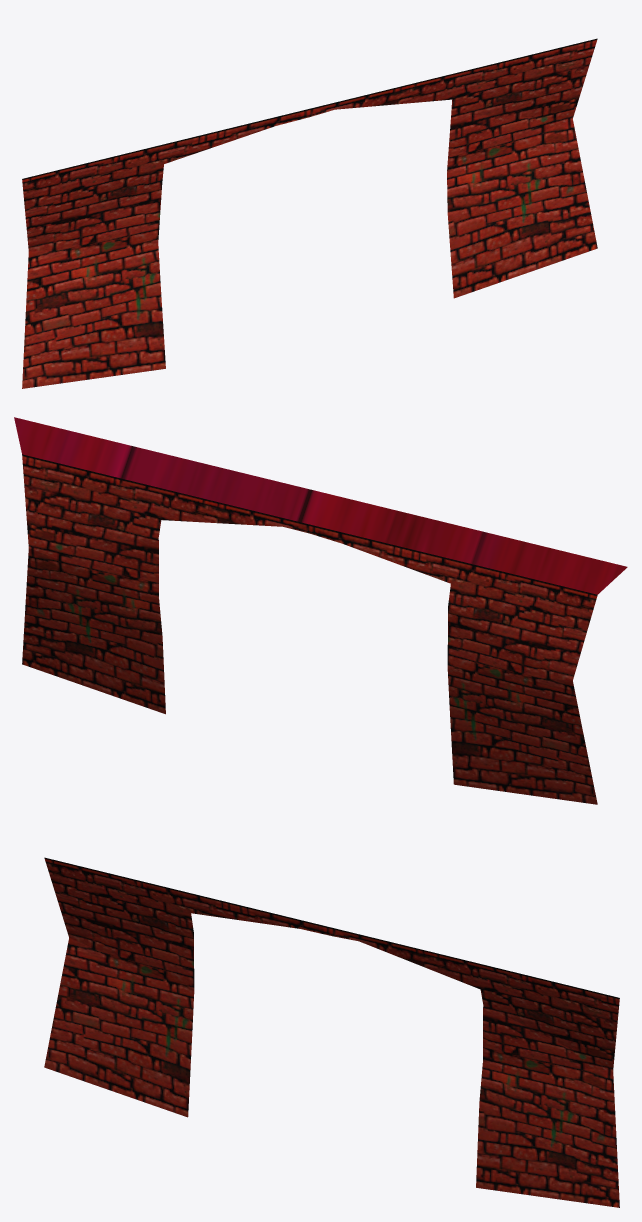
File: W_A1_GroßesTor [Ziegel]_582.glb
3 views of the same model, one above another, from view 1: azimuth 30°, elevation 25°; view 2: azimuth 150°, elevation 25°; view 3: azimuth 330°, elevation 25° (orthographic).
Parts seen in each view (by area): view 1: polySurfaceShape787; view 2: polySurfaceShape787, polySurfaceShape1065; view 3: polySurfaceShape787.
Boxes of the visible parts, <box> form: polySurfaceShape787: <box>22,38,597,388</box>; polySurfaceShape787: <box>22,454,597,804</box>; polySurfaceShape1065: <box>14,417,627,594</box>; polySurfaceShape787: <box>44,857,619,1207</box>.
Bounding box in the file's own units: 1.07 × 0.414 × 0.0607.
2 materials, 2 textured.
